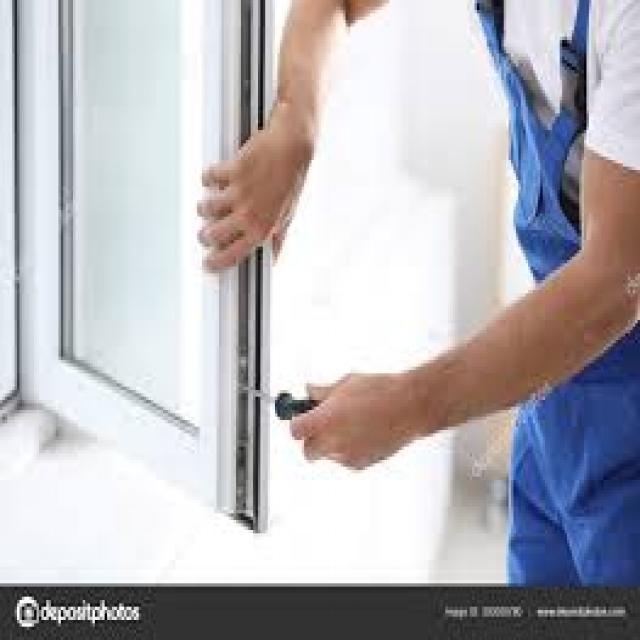screwdriver: (218, 372, 330, 435)
